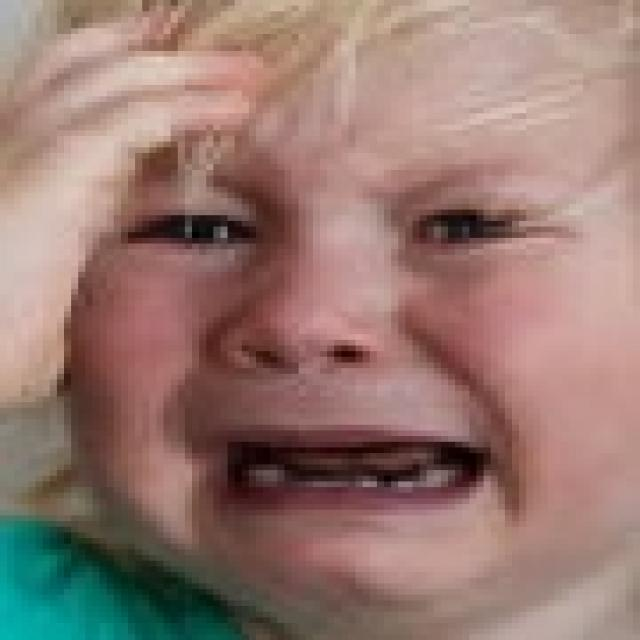Anxiety: (25, 0, 633, 634)
